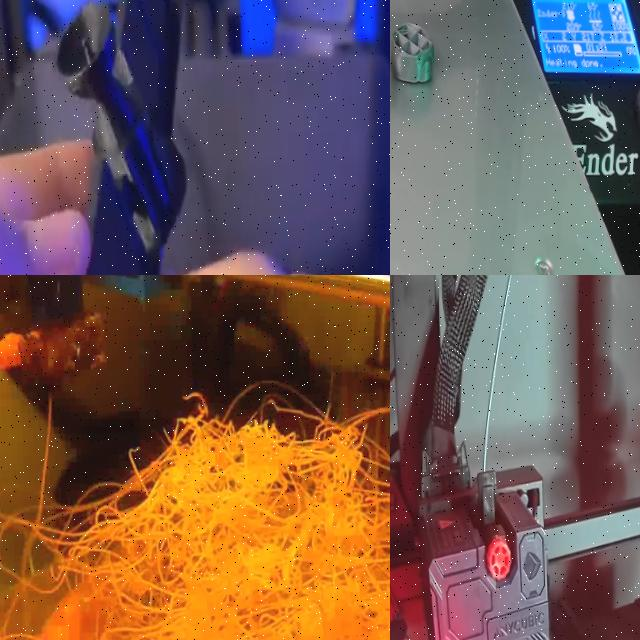spaghetti: (0, 392, 390, 640)
